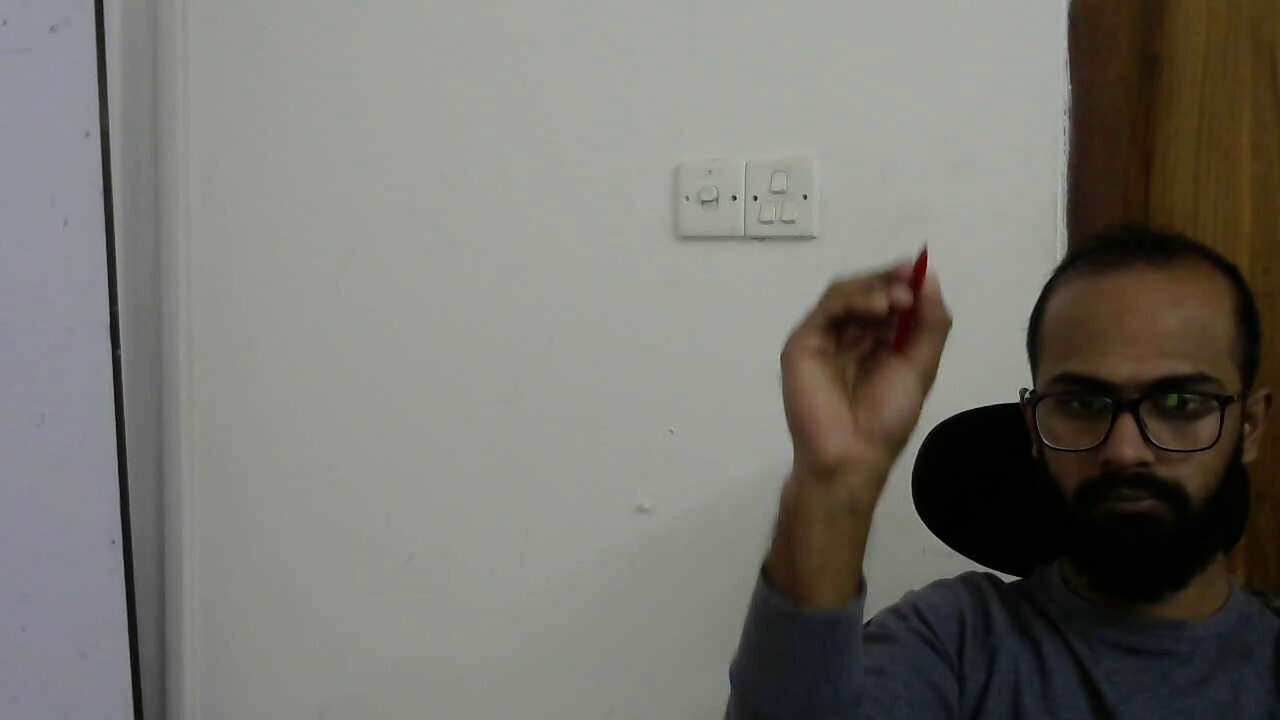pointer: (776, 256, 956, 406)
